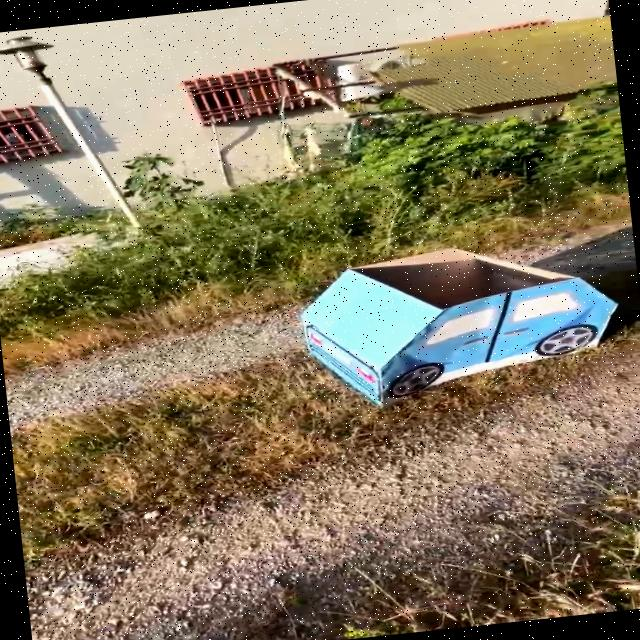blue_car: (235, 184, 640, 445)
